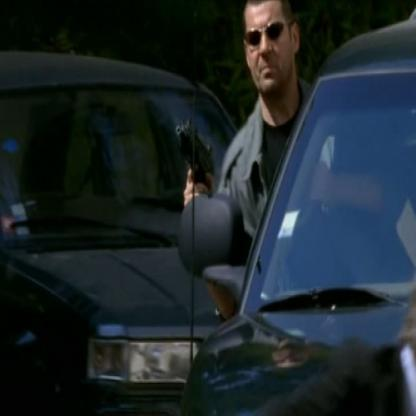Gun: (172, 118, 221, 214)
